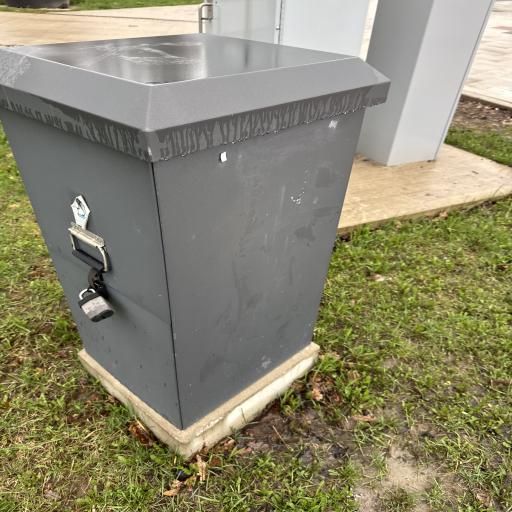Electrical Box: (0, 30, 392, 432)
